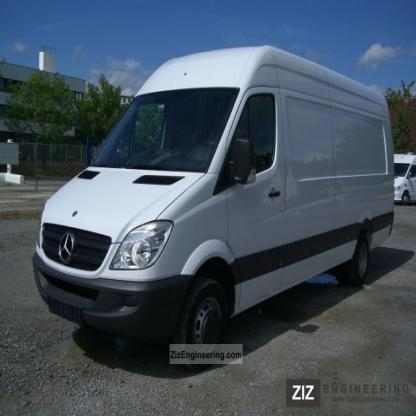Vehicle: (31, 45, 397, 374)
